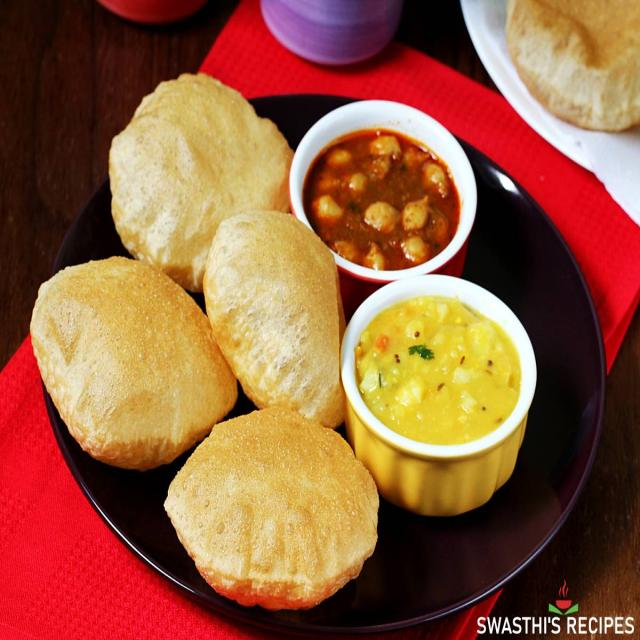poori: (154, 402, 388, 623), (27, 251, 240, 474), (103, 66, 300, 277), (196, 199, 357, 432)
